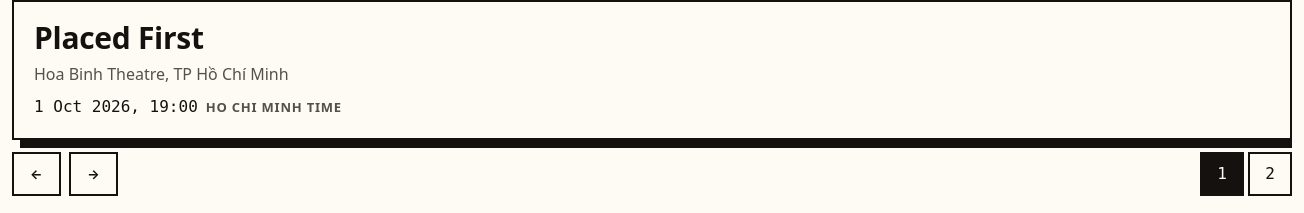
it: the curated row › moves, and wraps round at the end
Expected: the heading "Placed First" is shown, left=34, top=17, right=204, bottom=58
Click the button named "Next featured event": click(94, 174) left=69, top=152, right=118, bottom=196
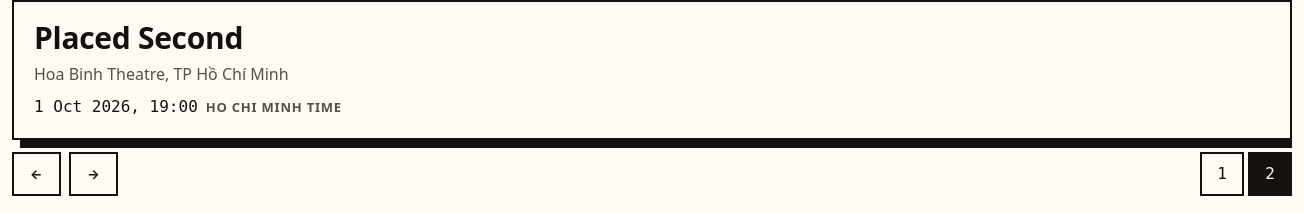
Expected: the heading "Placed Second" is shown, left=34, top=17, right=243, bottom=58
Click the button named "Next featured event": click(94, 174) left=69, top=152, right=118, bottom=196
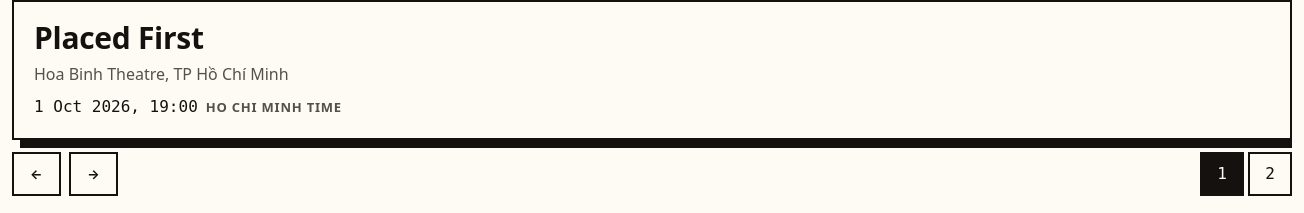
Expected: the heading "Placed First" is shown, left=34, top=17, right=204, bottom=58
